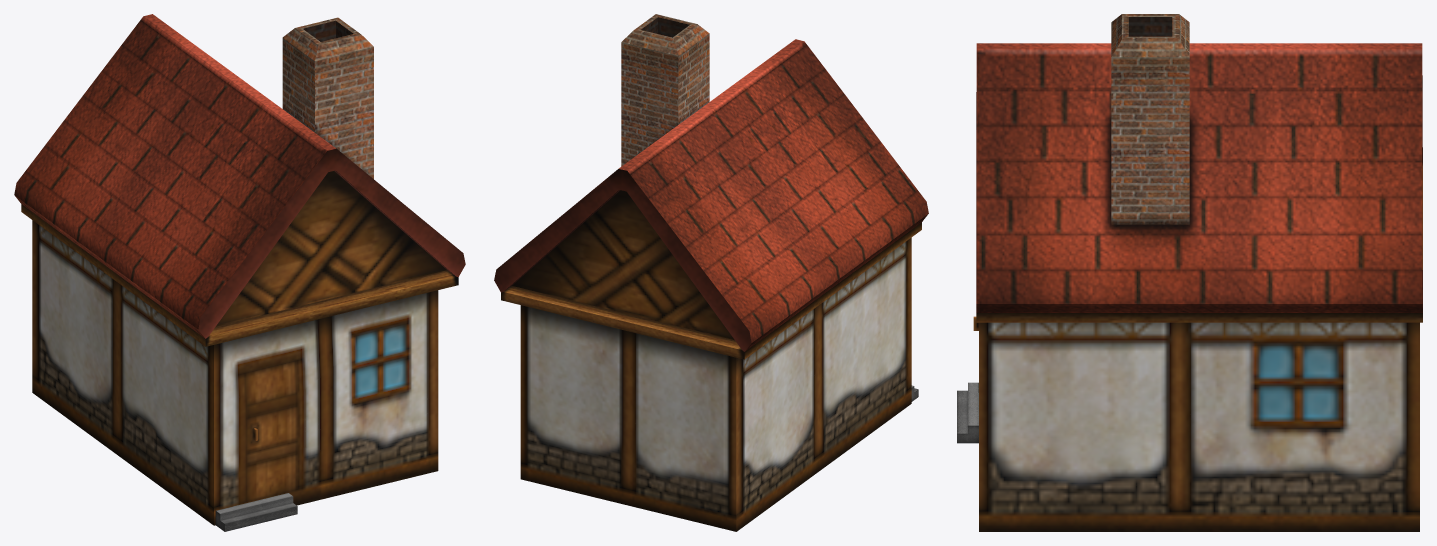
File: house_normal_red.fbx
The picture shows the model from 3 angles, left to right: view 1: azimuth 30°, elevation 25°; view 2: azimuth 150°, elevation 25°; view 3: azimuth 270°, elevation 25°; orthographic projection. The views are drawn at different scales.
Parts seen in each view (by area): view 1: polySurface19; view 2: polySurface19; view 3: polySurface19.
Part boxes in pixels (<box>): polySurface19: <box>14,14,465,531</box>; polySurface19: <box>494,14,928,531</box>; polySurface19: <box>957,14,1422,531</box>.
Size of the model in its own units: 358 by 509 by 446.
